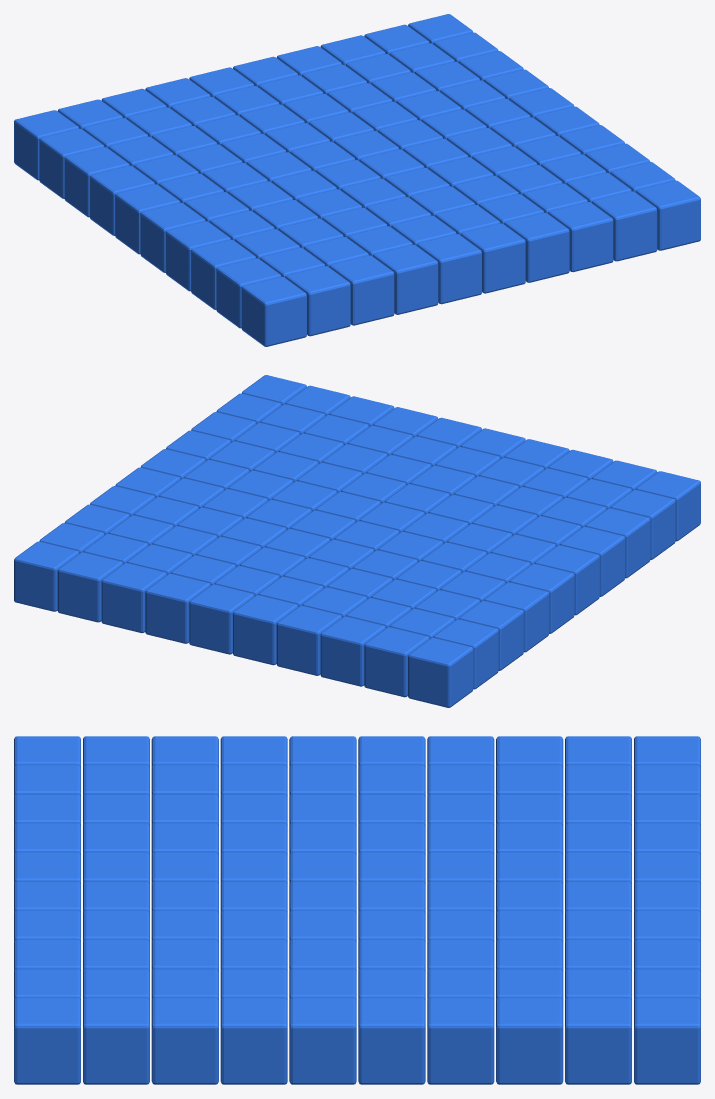
The model's file is base10_flat.glb.
The picture shows the model from 3 angles, top to bottom: view 1: azimuth 30°, elevation 25°; view 2: azimuth 150°, elevation 25°; view 3: azimuth 270°, elevation 25°; orthographic projection. The views are drawn at different scales.
Parts seen in each view (by area): view 1: base10_flat; view 2: base10_flat; view 3: base10_flat.
Part boxes in pixels (bbox=[...]): base10_flat: bbox=[14, 14, 700, 346]; base10_flat: bbox=[14, 375, 700, 707]; base10_flat: bbox=[14, 736, 700, 1084].
Size of the model in its own units: 0.1995 by 0.0195 by 0.1995.
